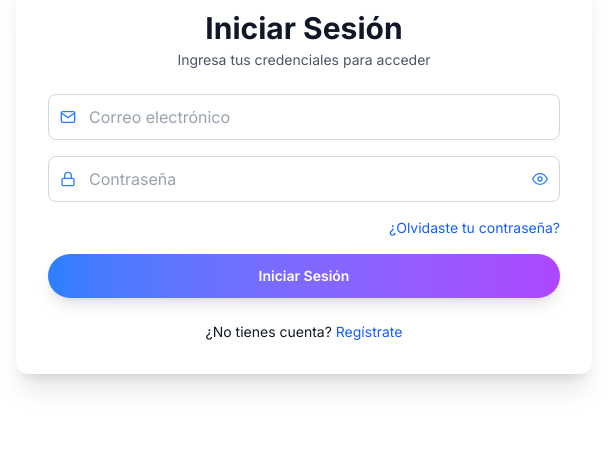
Test: LoginForm › debe mostrar mensaje de error si el backend responde con error
Type "malo@test.com" into the field with placeholder "Correo electrónico" at (304, 117), box [48,94,560,140]
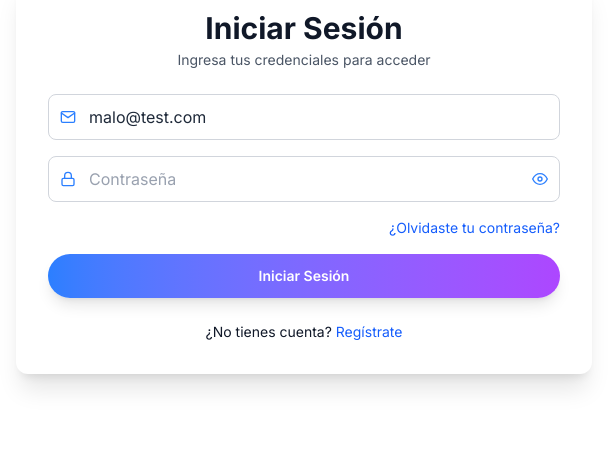
Type "incorrecta" into the password field with placeholder "Contraseña" at (304, 179), box [48,156,560,202]
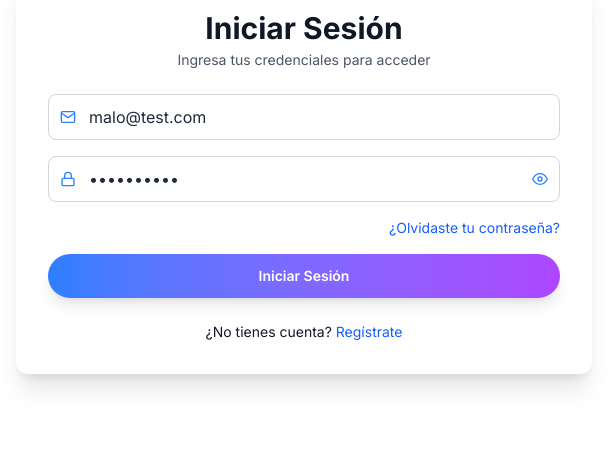
Click the button "Iniciar Sesión" at (304, 276), box [48,254,560,298]
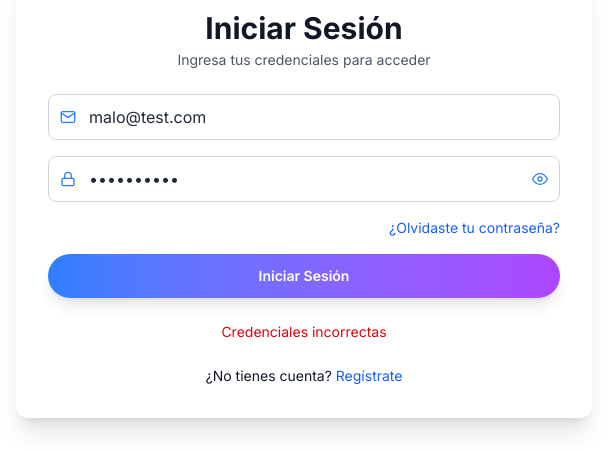
Check: the text "Credenciales incorrectas" is shown, box [221,323,387,340]
